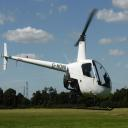helicopter: (1, 9, 117, 112)
